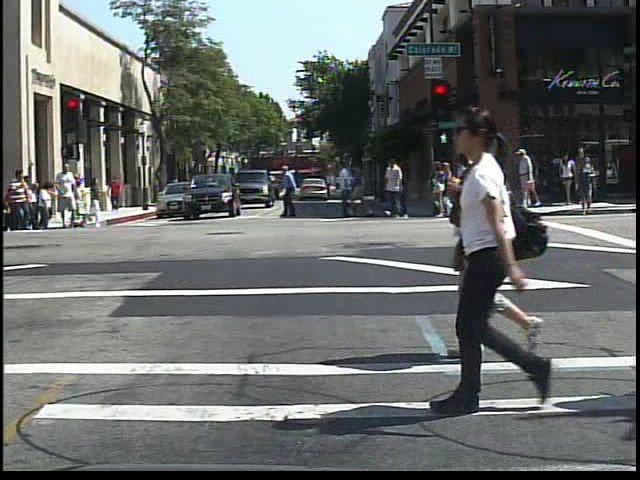person: (438, 104, 560, 417), (428, 115, 517, 357), (513, 143, 547, 214), (53, 162, 83, 231), (9, 164, 33, 234), (106, 175, 126, 213), (167, 172, 185, 204)
